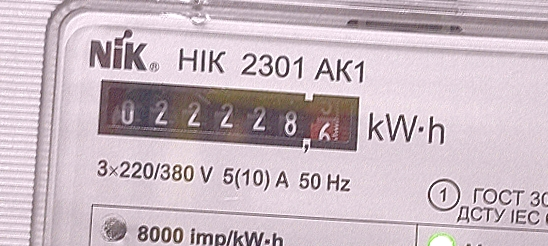0: (117, 97, 135, 127)
2: (150, 97, 171, 128), (216, 101, 235, 130), (250, 104, 268, 134), (184, 100, 202, 129)
5: (317, 97, 334, 118)
6: (315, 120, 333, 142)
8: (281, 109, 298, 138)
screen: (88, 69, 370, 161)
